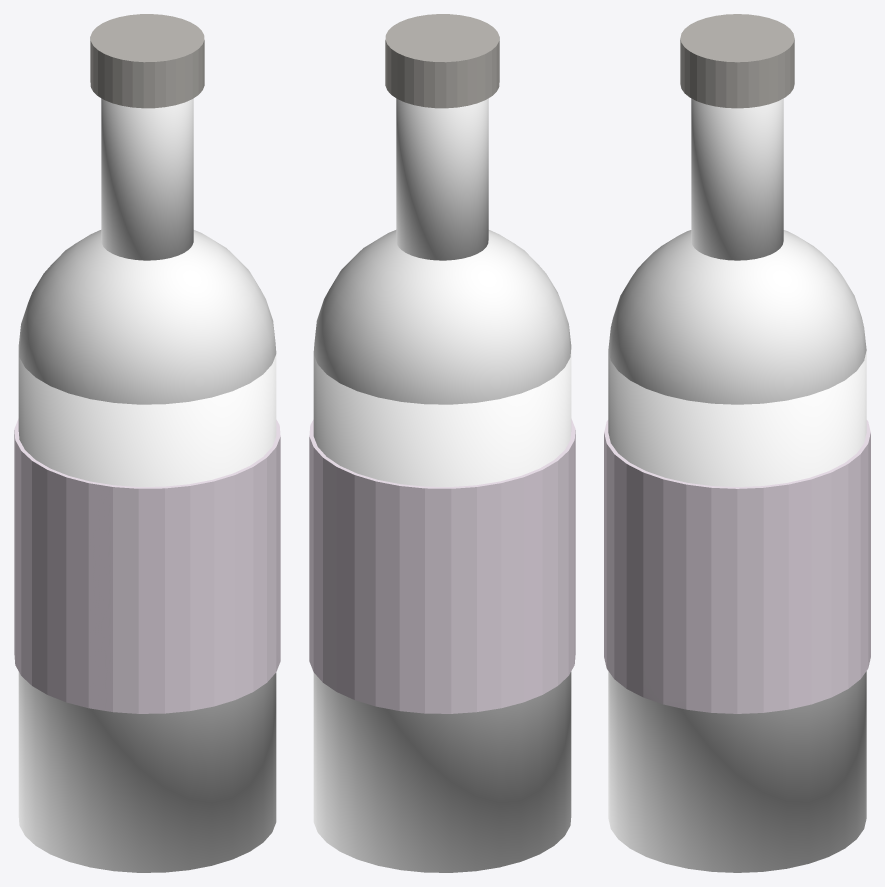
Rendered from bottle.glb.
3 views of the same model, side by side, from view 1: azimuth 30°, elevation 25°; view 2: azimuth 150°, elevation 25°; view 3: azimuth 270°, elevation 25° (orthographic).
Parts seen in each view (by area): view 1: Cylinder, Cylinder.003, Sphere, Cylinder.001, Cylinder.002; view 2: Cylinder, Cylinder.003, Sphere, Cylinder.001, Cylinder.002; view 3: Cylinder, Cylinder.003, Sphere, Cylinder.001, Cylinder.002.
Part boxes in pixels (x1=…): Cylinder: x1=18, y1=350, x2=276, y2=872; Cylinder.003: x1=14, y1=418, x2=280, y2=713; Sphere: x1=18, y1=230, x2=276, y2=404; Cylinder.001: x1=101, y1=98, x2=193, y2=260; Cylinder.002: x1=90, y1=14, x2=204, y2=108; Cylinder: x1=313, y1=350, x2=571, y2=872; Cylinder.003: x1=309, y1=418, x2=575, y2=713; Sphere: x1=313, y1=230, x2=571, y2=404; Cylinder.001: x1=396, y1=98, x2=488, y2=260; Cylinder.002: x1=385, y1=14, x2=499, y2=108; Cylinder: x1=608, y1=351, x2=866, y2=872; Cylinder.003: x1=604, y1=420, x2=870, y2=713; Sphere: x1=608, y1=230, x2=866, y2=404; Cylinder.001: x1=691, y1=98, x2=783, y2=260; Cylinder.002: x1=680, y1=14, x2=794, y2=108.
Bounding box in the file's own units: 0.5162 × 1.67 × 0.5162.
5 materials, 1 textured.
